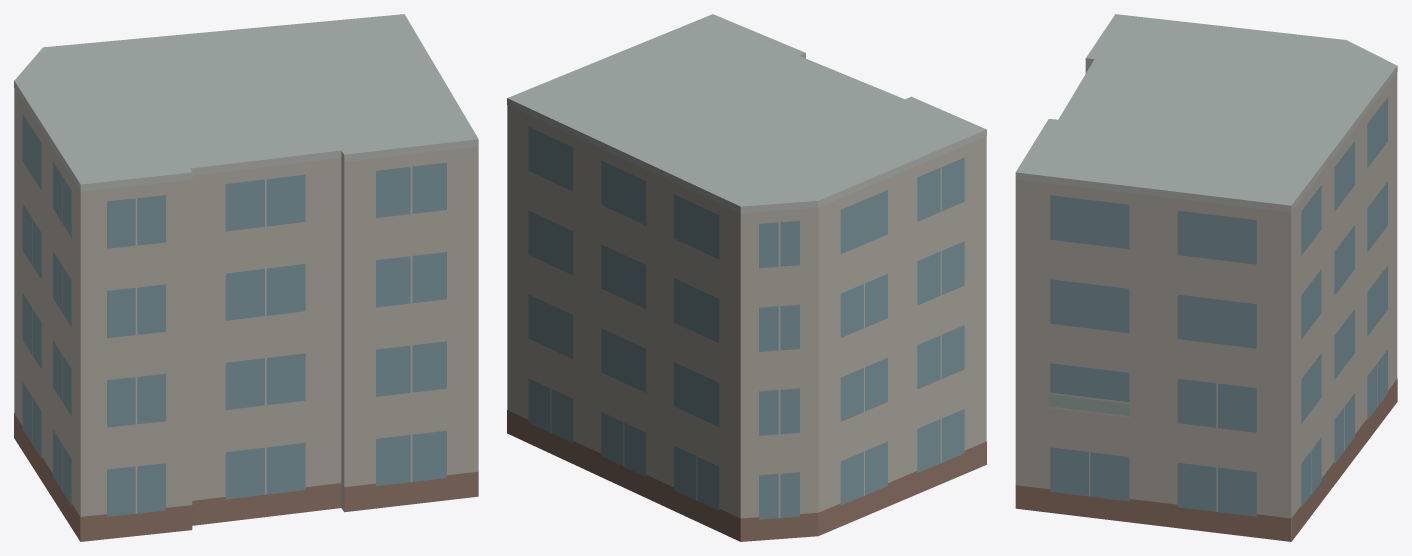
The model's file is survey-upis-32875288.glb.
3 views of the same model, side by side, from view 1: azimuth 30°, elevation 25°; view 2: azimuth 150°, elevation 25°; view 3: azimuth 270°, elevation 25° (orthographic). The views are drawn at different scales.
Parts seen in each view (by area): view 1: survey-upis-32875288.tmp; view 2: survey-upis-32875288.tmp; view 3: survey-upis-32875288.tmp.
Boxes of the visible parts, left/top/right/bottom form: survey-upis-32875288.tmp: left=14, top=14, right=478, bottom=541; survey-upis-32875288.tmp: left=507, top=14, right=986, bottom=541; survey-upis-32875288.tmp: left=1015, top=14, right=1397, bottom=541.
Size of the model in its own units: 14.68 by 12 by 12.36.
